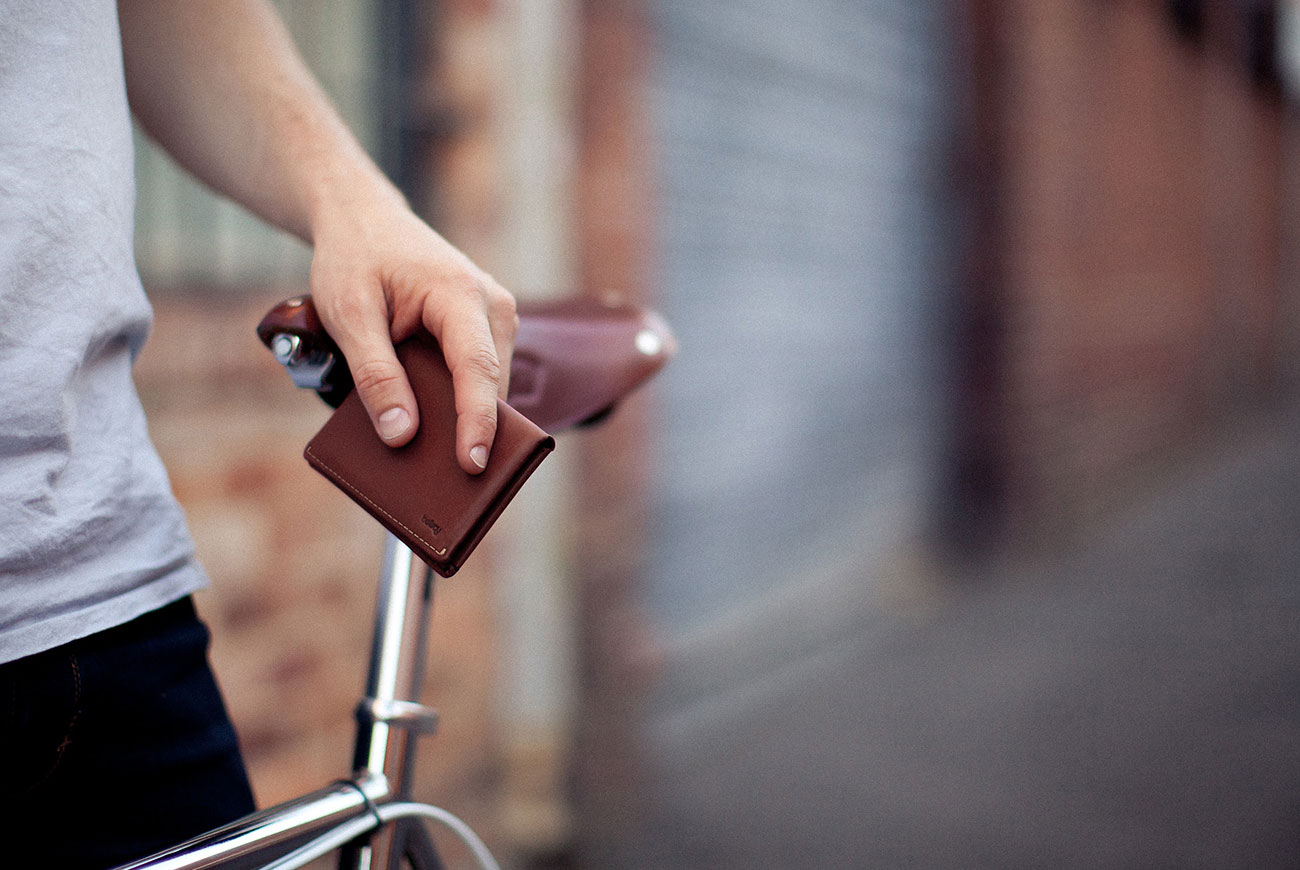monedero: (300, 330, 558, 583)
